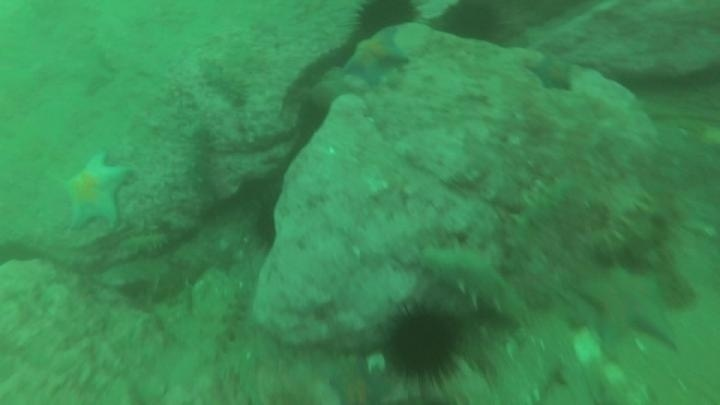echinus: (381, 301, 466, 387), (439, 2, 506, 46), (351, 1, 421, 40), (249, 194, 282, 254), (293, 97, 333, 146)
holothurian: (414, 240, 528, 324), (589, 186, 682, 270), (502, 171, 579, 271), (210, 285, 251, 359), (114, 230, 172, 261)
scallop: (570, 325, 605, 368)
starfish: (574, 263, 683, 353), (59, 150, 134, 232), (340, 28, 411, 89), (325, 360, 395, 405), (525, 53, 577, 94)
